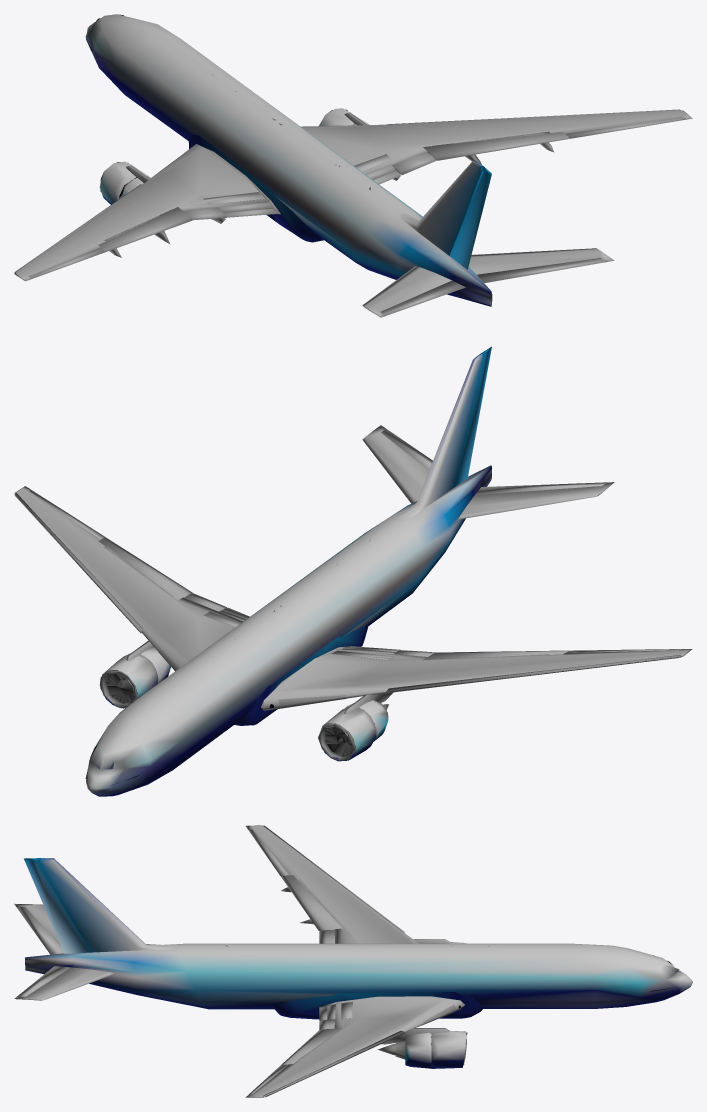
The picture shows the model from 3 angles, top to bottom: view 1: azimuth 30°, elevation 25°; view 2: azimuth 150°, elevation 25°; view 3: azimuth 270°, elevation 25°; orthographic projection. The views are drawn at different scales.
Size of the model in its own units: 60.7 by 17.07 by 63.94.
